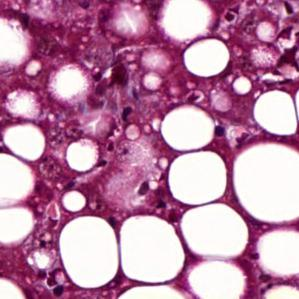steatosis: (59, 215, 121, 288), (167, 152, 228, 204), (253, 89, 299, 135), (184, 38, 230, 79), (61, 190, 88, 213)
